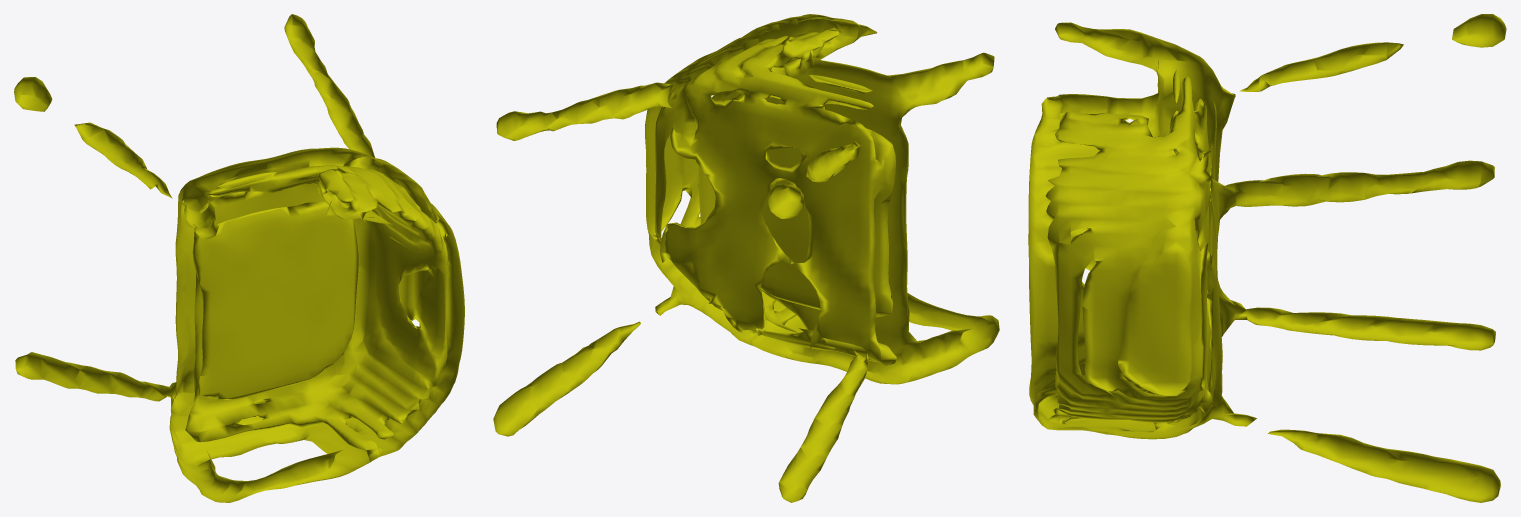
3 views of the same model, side by side, from view 1: azimuth 30°, elevation 25°; view 2: azimuth 150°, elevation 25°; view 3: azimuth 270°, elevation 25° (orthographic). The views are drawn at different scales.
Visible parts, largest first — view 1: world; view 2: world; view 3: world.
Part boxes in pixels (<box>): world: <box>14,14,464,502</box>; world: <box>493,14,999,502</box>; world: <box>1028,14,1506,502</box>.
Bounding box in the file's own units: 32.38 × 32.11 × 40.81.
